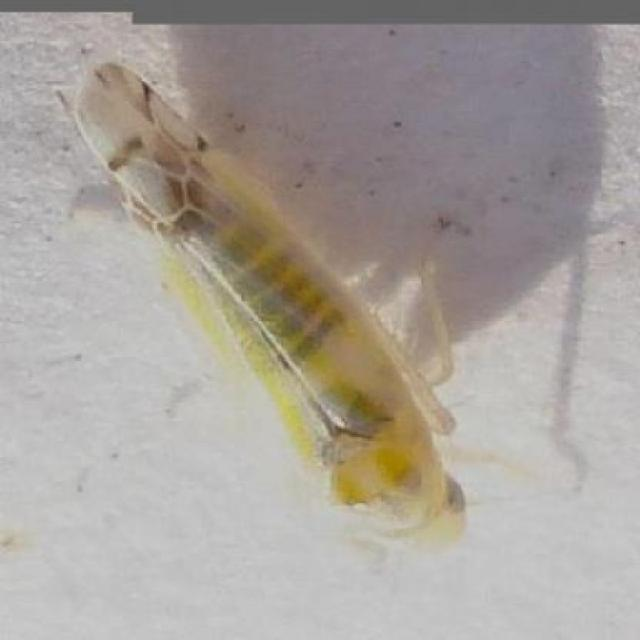green-leafhopper: (53, 62, 567, 586)
